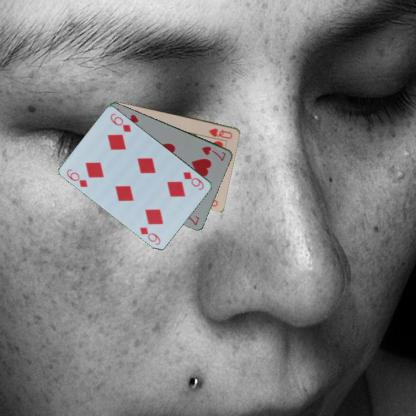6d: (64, 166, 90, 188), (181, 170, 206, 192)
7h: (199, 144, 227, 162)
Qh: (206, 125, 234, 140)
